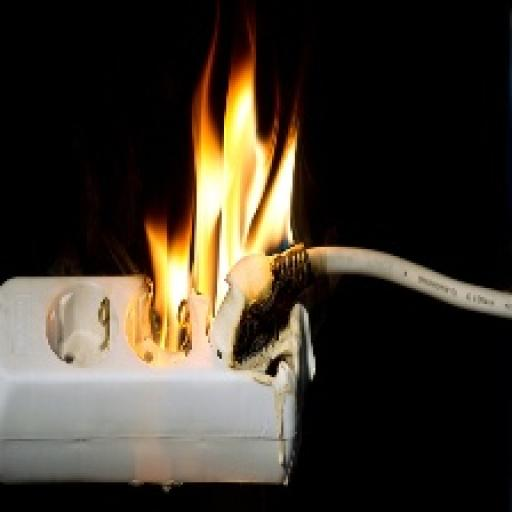fire and smoke: (146, 18, 297, 311)
